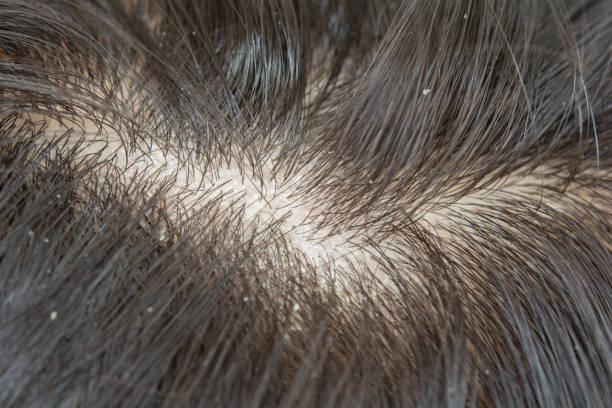dandruff: (453, 9, 488, 33), (42, 295, 63, 329), (406, 83, 445, 101), (181, 22, 202, 39), (141, 305, 162, 318), (556, 98, 574, 111)
